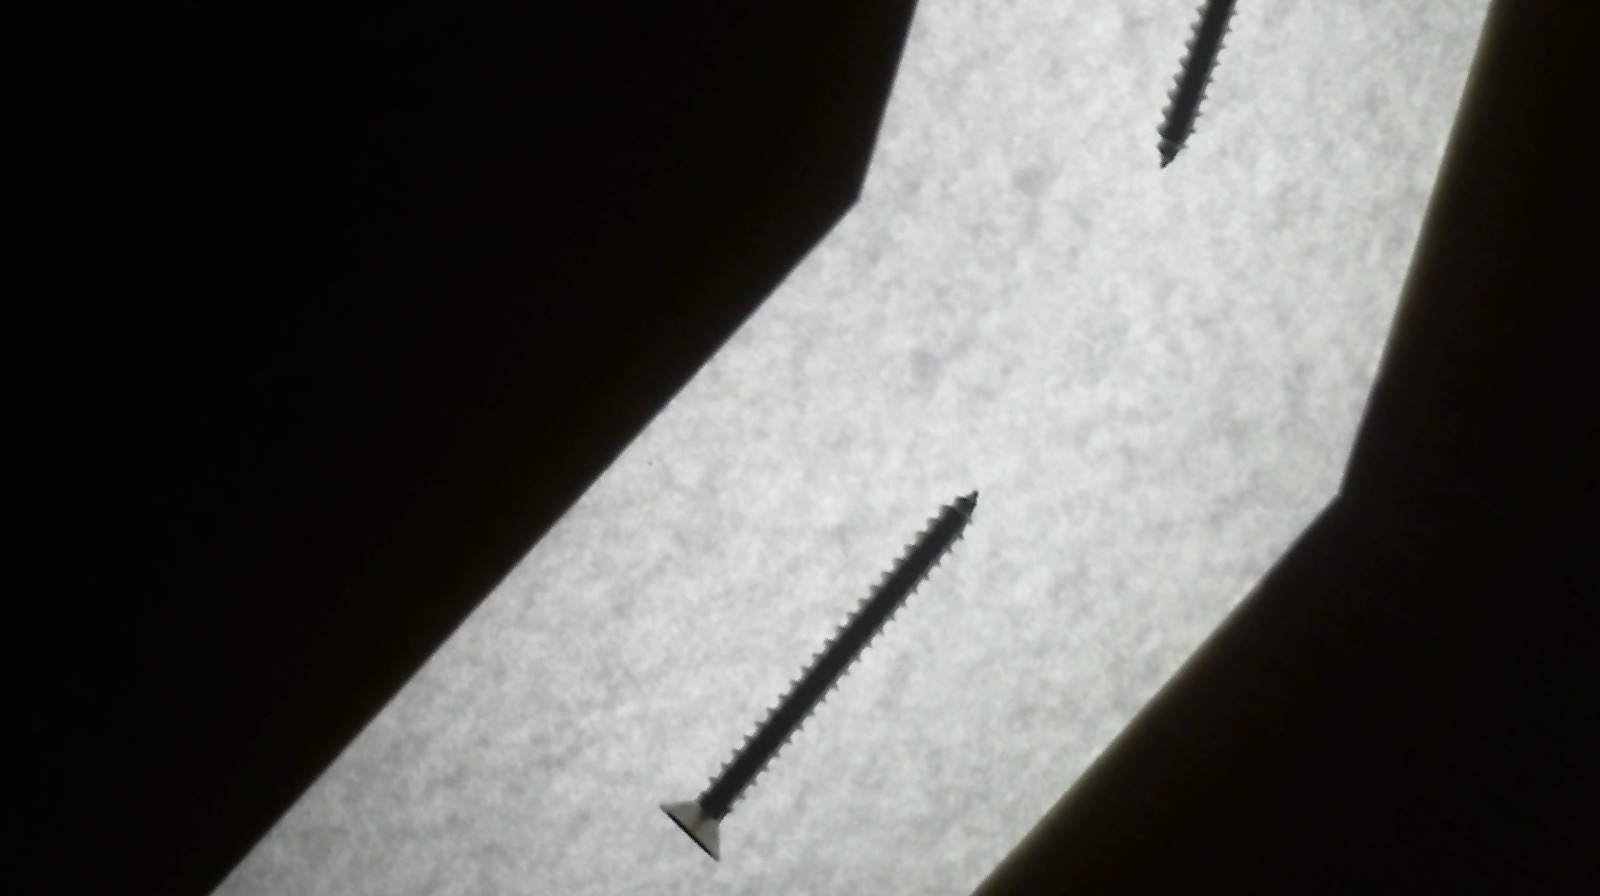S002: (640, 424, 1001, 895)
